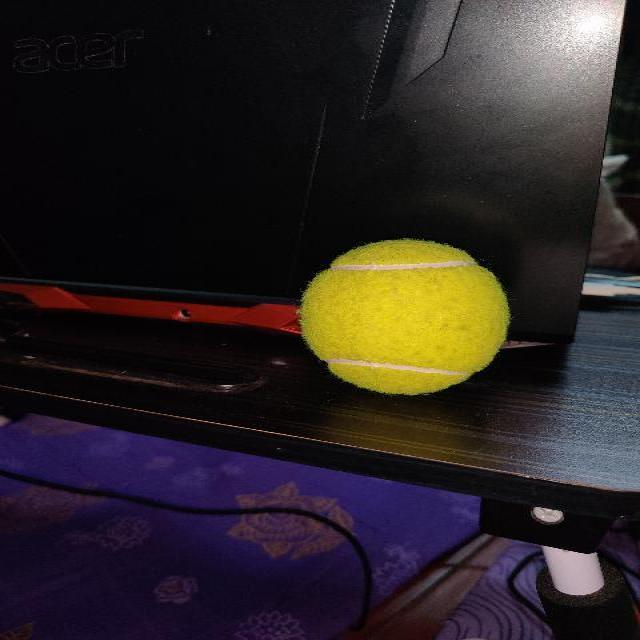tennis-ball: (296, 236, 510, 396)
